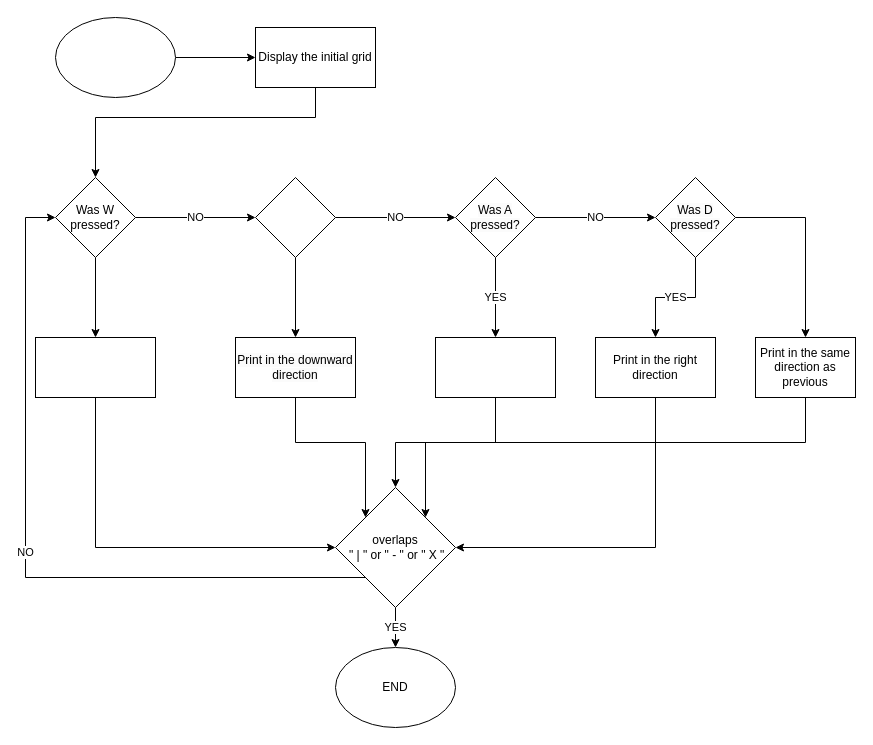
Image size: 873x745. Some labels were removed from this diagram. The shapes that lost their labels are listed below. From the top down, each one's centre as x and y in pixels, then its label:
point 115,57: start
point 295,217: Was S pressed?
point 95,367: Print in the upward direction
point 495,367: Print in the left direction
